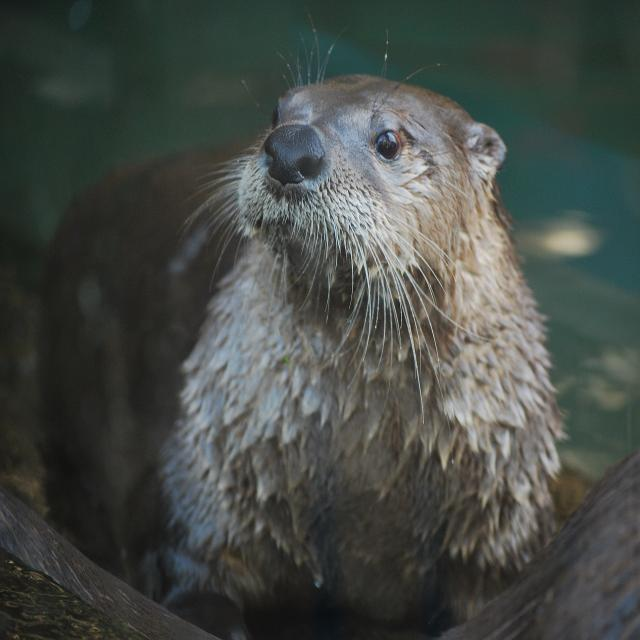otter: (187, 76, 556, 564)
